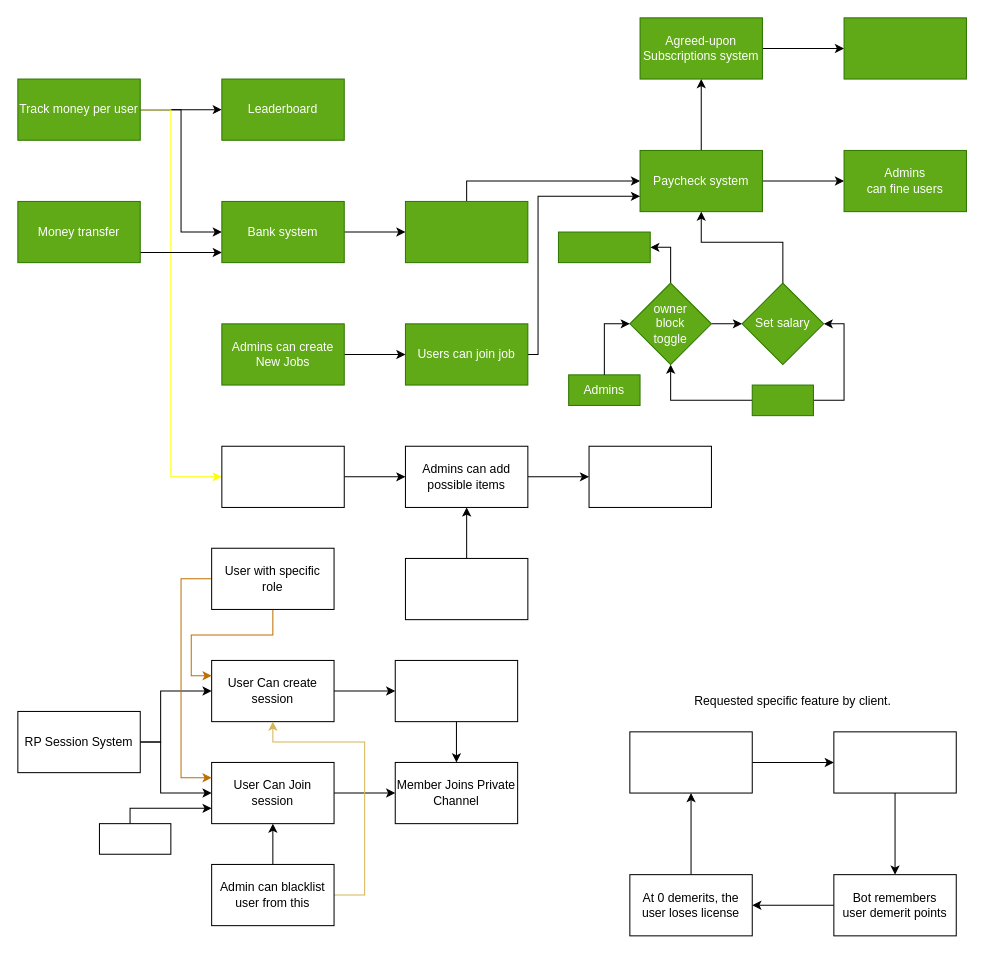
The diagram is 984 pixels wide and 954 high, and some of its shapes have lost their labels. Here are the shapes that lost their labels. From the top down, the box of each, then its label:
(843, 17, 966, 79): Either party can cancel the subscription
(404, 200, 528, 263): Send/Recieve money From Bank
(557, 231, 650, 263): Admin blocked
(751, 384, 813, 416): Owner
(221, 445, 344, 507): Shop system
(588, 445, 711, 507): Users can sell items to shop to be bought by others
(404, 557, 528, 620): Bot randomizes shop once per day
(394, 659, 518, 722): Bot Creates Private Channel
(629, 731, 752, 793): People can buy a drivers license
(833, 731, 956, 793): Officers can fine and deduct demerit points
(98, 823, 171, 854): Any user
